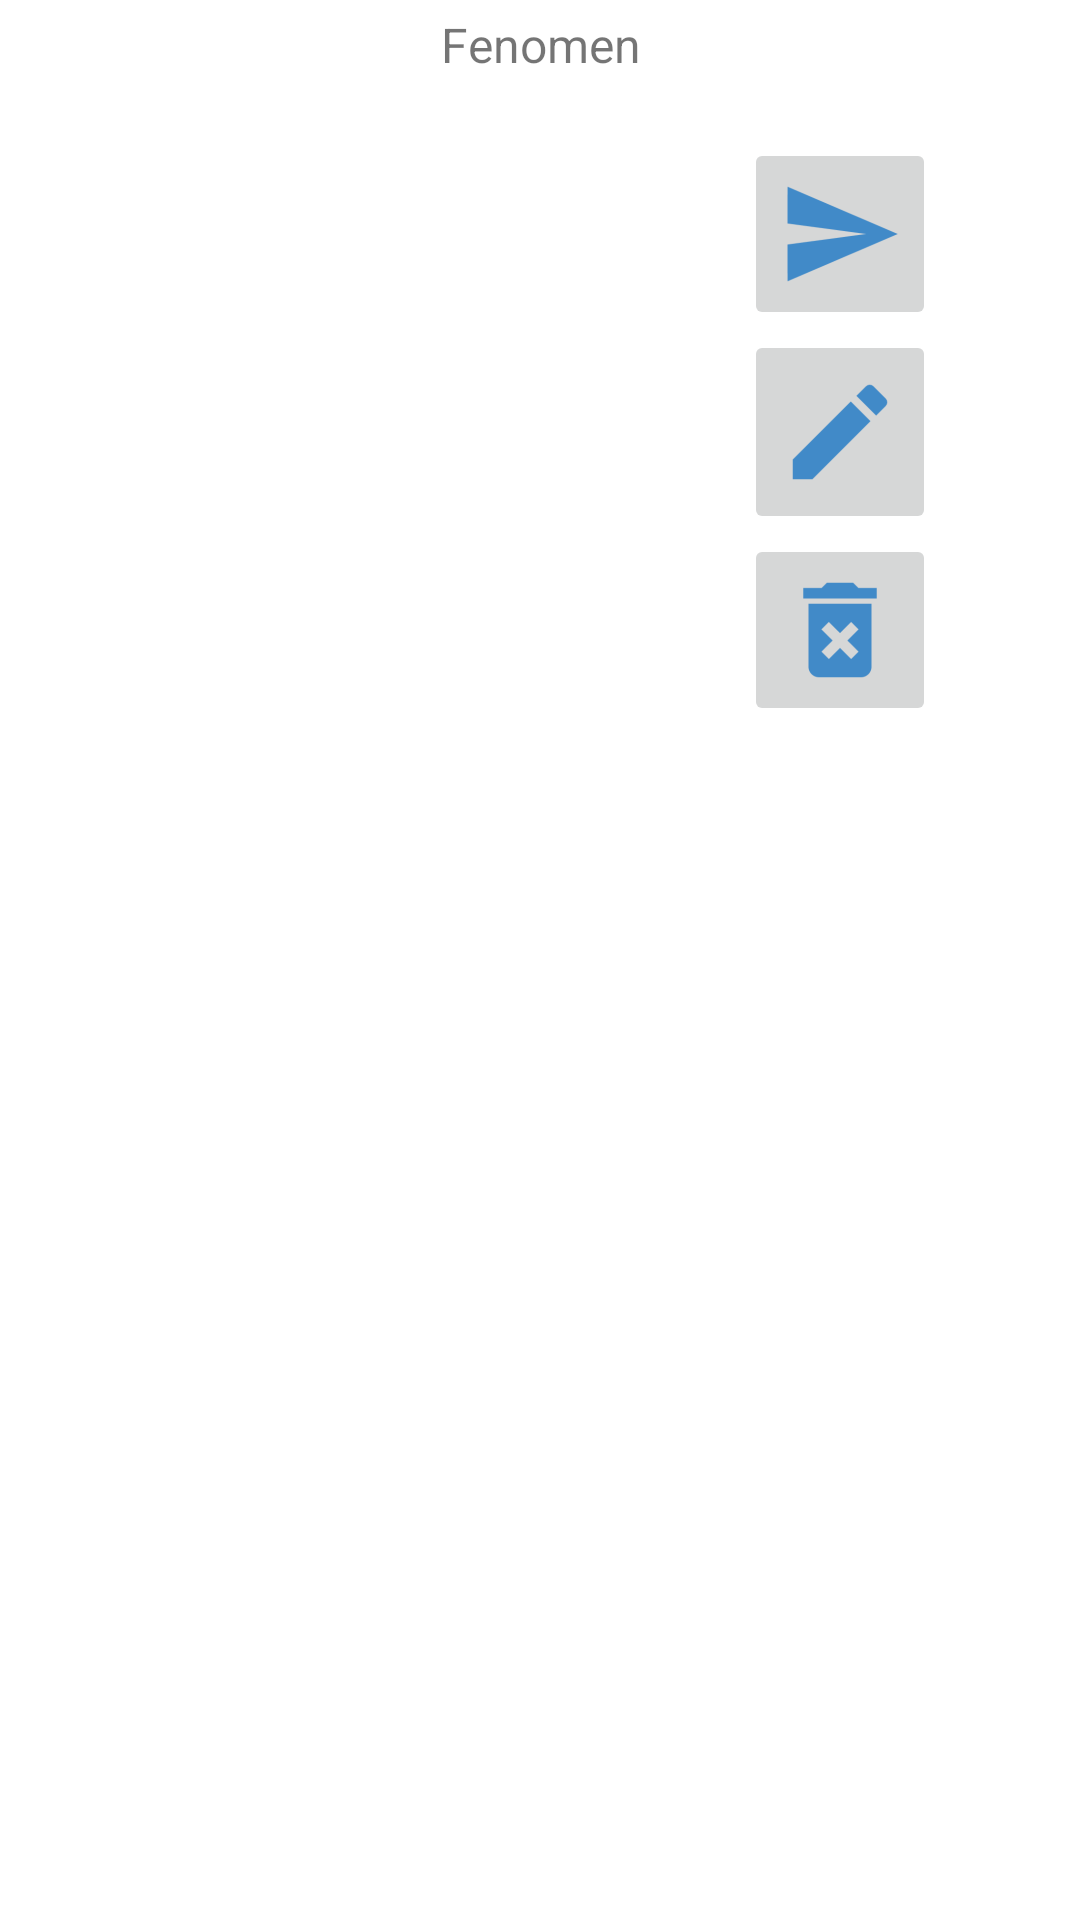

Where icons sit on this 1080px×1920px app screen, as (x1, y1, x2, y2):
delete edumet: (756, 552, 924, 708)
edit edumet: (756, 348, 924, 516)
send edumet: (756, 156, 924, 312)
